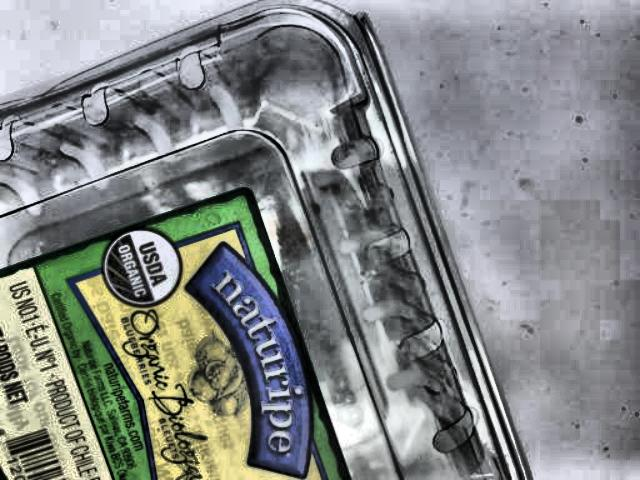Plastic: (0, 0, 548, 480)
